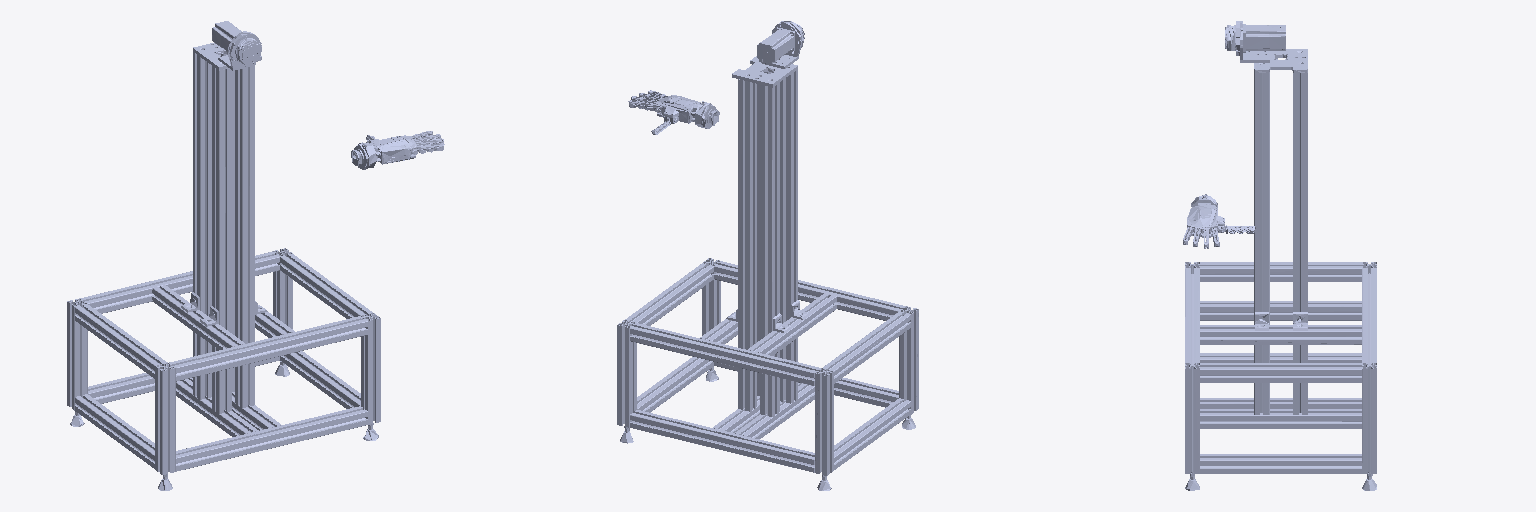
robot.urdf — air_robot:
<?xml version="1.0" encoding="utf-8" ?>
<!-- This URDF was automatically created by SolidWorks to URDF Exporter! Originally created by [author] ([email redacted])
     Commit Version: 1.6.0-4-g7f85cfe  Build Version: 1.6.7995.38578
     For more information, please see http://wiki.ros.org/sw_urdf_exporter -->
<robot name="air_robot">
    <link name="base_link">
        <inertial>
            <origin xyz="0.000160852559340272 0.416511988266863 0.00522519390962018" rpy="0 0 0" />
            <mass value="6.60658072927865" />
            <inertia ixx="0.205461268695088" ixy="-4.8631130134879E-08" ixz="3.31309244336347E-09" iyy="0.0632251395598791" iyz="-4.46121098307276E-09" izz="0.213924141252687" />
        </inertial>
        <visual>
            <origin xyz="0 0 0" rpy="0 0 0" />
            <geometry>
                <mesh filename="package://air_description/meshes/base_link.STL" />
            </geometry>
            <material name="">
                <color rgba="0.792156862745098 0.819607843137255 0.933333333333333 1" />
            </material>
        </visual>
        <collision>
            <origin xyz="0 0 0" rpy="0 0 0" />
            <geometry>
                <mesh filename="package://air_description/meshes/base_link.STL" />
            </geometry>
        </collision>
    </link>
    <link name="s1">
        <inertial>
            <origin xyz="-0.0565855661773653 -1.47432999124675E-05 0.0503451976338493" rpy="0 0 0" />
            <mass value="0.542684124579144" />
            <inertia ixx="0.000345761092952399" ixy="-3.24050500600486E-07" ixz="1.50683178516403E-07" iyy="0.000778022471193682" iyz="1.07326375799424E-08" izz="0.000776671252305068" />
        </inertial>
        <visual>
            <origin xyz="0 0 0" rpy="0 0 0" />
            <geometry>
                <mesh filename="package://air_description/meshes/s1.STL" />
            </geometry>
            <material name="">
                <color rgba="0.792156862745098 0.819607843137255 0.933333333333333 1" />
            </material>
        </visual>
        <collision>
            <origin xyz="0 0 0" rpy="0 0 0" />
            <geometry>
                <mesh filename="package://air_description/meshes/s1.STL" />
            </geometry>
        </collision>
    </link>
    <joint name="s1j" type="revolute">
        <origin xyz="0 -0.1455 1.1455" rpy="1.5708 0 0" />
        <parent link="base_link" />
        <child link="s1" />
        <axis xyz="0 0 1" />
        <limit lower="-0.78" upper="0.78" effort="2.76" velocity="3.39" />
    </joint>
    <link name="s2">
        <inertial>
            <origin xyz="0.0265368019978267 -0.0360762146328593 0.00202591662662588" rpy="0 0 0" />
            <mass value="0.0397003268136184" />
            <inertia ixx="1.77539568949169E-05" ixy="-5.49265597337707E-08" ixz="4.46961963342789E-21" iyy="9.62749691816005E-06" iyz="5.5659379414233E-21" izz="1.53865784423673E-05" />
        </inertial>
        <visual>
            <origin xyz="0 0 0" rpy="0 0 0" />
            <geometry>
                <mesh filename="package://air_description/meshes/s2.STL" />
            </geometry>
            <material name="">
                <color rgba="0.792156862745098 0.819607843137255 0.933333333333333 1" />
            </material>
        </visual>
        <collision>
            <origin xyz="0 0 0" rpy="0 0 0" />
            <geometry>
                <mesh filename="package://air_description/meshes/s2.STL" />
            </geometry>
        </collision>
    </link>
    <joint name="s2j" type="revolute">
        <origin xyz="0 0 0.05" rpy="0 0 0" />
        <parent link="s1" />
        <child link="s2" />
        <axis xyz="-1 0 0" />
        <limit lower="0" upper="1.57" effort="2.76" velocity="3.39" />
    </joint>
    <link name="s3">
        <inertial>
            <origin xyz="-0.0307852686146159 -0.106762715233885 -0.00285680761161178" rpy="0 0 0" />
            <mass value="0.69346525440976" />
            <inertia ixx="0.000632226154715784" ixy="3.3846916742775E-06" ixz="-2.03216958615076E-06" iyy="0.000203793561582271" iyz="-7.69131798756883E-08" izz="0.000626858789980171" />
        </inertial>
        <visual>
            <origin xyz="0 0 0" rpy="0 0 0" />
            <geometry>
                <mesh filename="package://air_description/meshes/s3.STL" />
            </geometry>
            <material name="">
                <color rgba="0.792156862745098 0.819607843137255 0.933333333333333 1" />
            </material>
        </visual>
        <collision>
            <origin xyz="0 0 0" rpy="0 0 0" />
            <geometry>
                <mesh filename="package://air_description/meshes/s3.STL" />
            </geometry>
        </collision>
    </link>
    <joint name="s3j" type="revolute">
        <origin xyz="-0.00345 -0.06 0.0036" rpy="0 0 0" />
        <parent link="s2" />
        <child link="s3" />
        <axis xyz="0 -1 0" />
        <limit lower="-1.57" upper="1.57" effort="2.76" velocity="3.39" />
    </joint>
    <link name="e">
        <inertial>
            <origin xyz="0.133914313079551 0.0397090138567681 -0.00135370354868536" rpy="0 0 0" />
            <mass value="0.524484949455585" />
            <inertia ixx="0.000164098535625993" ixy="-0.00011555456704967" ixz="-1.49937999308697E-06" iyy="0.000491486729879123" iyz="5.4210279008361E-06" izz="0.000537801635705856" />
        </inertial>
        <visual>
            <origin xyz="0 0 0" rpy="0 0 0" />
            <geometry>
                <mesh filename="package://air_description/meshes/e.STL" />
            </geometry>
            <material name="">
                <color rgba="0.792156862745098 0.819607843137255 0.933333333333333 1" />
            </material>
        </visual>
        <collision>
            <origin xyz="0 0 0" rpy="0 0 0" />
            <geometry>
                <mesh filename="package://air_description/meshes/e.STL" />
            </geometry>
        </collision>
    </link>
    <joint name="ej" type="revolute">
        <origin xyz="-0.005 -0.2835 0" rpy="0 0 -0.28935" />
        <parent link="s3" />
        <child link="e" />
        <axis xyz="0 0 1" />
        <limit lower="-1.4" upper="0.184" effort="2.76" velocity="3.39" />
    </joint>
    <link name="roll">
        <inertial>
            <origin xyz="2.11649564541005E-08 2.17253527112771E-08 -5.72361158468482E-10" rpy="0 0 0" />
            <mass value="0.0123350072540482" />
            <inertia ixx="5.73140316108075E-06" ixy="2.39610064059149E-12" ixz="2.37221429275288E-12" iyy="3.0133459248538E-06" iyz="-2.51281711383088E-12" izz="3.01335111374677E-06" />
        </inertial>
        <visual>
            <origin xyz="0 0 0" rpy="0 0 0" />
            <geometry>
                <mesh filename="package://air_description/meshes/roll.STL" />
            </geometry>
            <material name="">
                <color rgba="0.792156862745098 0.819607843137255 0.933333333333333 1" />
            </material>
        </visual>
        <collision>
            <origin xyz="0 0 0" rpy="0 0 0" />
            <geometry>
                <mesh filename="package://air_description/meshes/roll.STL" />
            </geometry>
        </collision>
    </link>
    <joint name="rollj" type="revolute">
        <origin xyz="0.25159 0.0749 0" rpy="-1.5708 0 -2.8522" />
        <parent link="e" />
        <child link="roll" />
        <axis xyz="0 0.70711 0.70711" />
        <limit lower="-0.26" upper="0.26" effort="2.76" velocity="3.39" />
    </joint>
    <link name="pitch">
        <inertial>
            <origin xyz="0.0286089165171641 -0.000144661566694015 0.009855465038871" rpy="0 0 0" />
            <mass value="0.0576090249075869" />
            <inertia ixx="7.09168260696957E-05" ixy="-9.04854271559607E-09" ixz="-9.02484498992207E-09" iyy="3.68466285330398E-05" iyz="-3.7654782496613E-07" izz="3.68466243102646E-05" />
        </inertial>
        <visual>
            <origin xyz="0 0 0" rpy="0 0 0" />
            <geometry>
                <mesh filename="package://air_description/meshes/pitch.STL" />
            </geometry>
            <material name="">
                <color rgba="0.792156862745098 0.819607843137255 0.933333333333333 1" />
            </material>
        </visual>
        <collision>
            <origin xyz="0 0 0" rpy="0 0 0" />
            <geometry>
                <mesh filename="package://air_description/meshes/pitch.STL" />
            </geometry>
        </collision>
    </link>
    <joint name="pitchj" type="revolute">
        <origin xyz="0 0.01 0" rpy="-1.5708 0 3.1416" />
        <parent link="roll" />
        <child link="pitch" />
        <axis xyz="0 0.70711 -0.70711" />
        <limit lower="-0.26" upper="0.26" effort="2.76" velocity="3.39" />
    </joint>
    <link name="yaw">
        <inertial>
            <origin xyz="0.121145515511824 -0.00274393412138674 -0.00280619674961233" rpy="0 0 0" />
            <mass value="0.288045639627102" />
            <inertia ixx="0.000166764800385917" ixy="1.15318815602555E-05" ixz="-2.72502292894343E-07" iyy="0.000292613552431781" iyz="3.6036191451638E-08" izz="0.000214965635544534" />
        </inertial>
        <visual>
            <origin xyz="0 0 0" rpy="0 0 0" />
            <geometry>
                <mesh filename="package://air_description/meshes/yaw.STL" />
            </geometry>
            <material name="">
                <color rgba="0.792156862745098 0.819607843137255 0.933333333333333 1" />
            </material>
        </visual>
        <collision>
            <origin xyz="0 0 0" rpy="0 0 0" />
            <geometry>
                <mesh filename="package://air_description/meshes/yaw.STL" />
            </geometry>
        </collision>
    </link>
    <joint name="yawj" type="revolute">
        <origin xyz="0.01 0 0.01" rpy="0 0 0" />
        <parent link="pitch" />
        <child link="yaw" />
        <axis xyz="-1 0 0" />
        <limit lower="-3.0" upper="3.0" effort="2.76" velocity="3.39" />
    </joint>

    <link name="world" />
    <joint name="world-base_link-fixed" type="fixed">
        <parent link="world" />
        <child link="base_link" />
        <origin xyz="0.0 0.0 0.0" rpy="0.0 0.0 0.0" />
        <dynamics damping="1.0" />
    </joint>

    <!--gazebo reference="base_link">
        <turnGravityOff>false</turnGravityOff>
        <plugin name="gazebo_ros_control">
            <robotNamespace>/</robotNamespace>
        </plugin>
    </gazebo>
    <gazebo reference="s1">
        <turnGravityOff>true</turnGravityOff>
    </gazebo>
    <gazebo reference="s2">
        <turnGravityOff>true</turnGravityOff>
    </gazebo>
    <gazebo reference="s3">
        <turnGravityOff>true</turnGravityOff>
    </gazebo>
    <gazebo reference="e">
        <turnGravityOff>true</turnGravityOff>
    </gazebo>
    <gazebo reference="roll">
        <turnGravityOff>true</turnGravityOff>
    </gazebo>
    <gazebo reference="pitch">
        <turnGravityOff>true</turnGravityOff>
    </gazebo>
    <gazebo reference="yaw">
        <turnGravityOff>true</turnGravityOff>
    </gazebo-->

    <transmission name="trans_s1j">
        <type>transmission_interface/SimpleTransmission</type>
        <joint name="s1j">
            <hardwareInterface>hardware_interface/PositionJointInterface</hardwareInterface>
        </joint>
        <actuator name="s1j_motor">
            <hardwareInterface>hardware_interface/PositionJointInterface</hardwareInterface>
            <mechanicalReduction>1</mechanicalReduction>
        </actuator>
    </transmission>
    <transmission name="trans_s2j">
        <type>transmission_interface/SimpleTransmission</type>
        <joint name="s2j">
            <hardwareInterface>hardware_interface/PositionJointInterface</hardwareInterface>
        </joint>
        <actuator name="s2j_motor">
            <hardwareInterface>hardware_interface/PositionJointInterface</hardwareInterface>
            <mechanicalReduction>1</mechanicalReduction>
        </actuator>
    </transmission>
    <transmission name="trans_s3j">
        <type>transmission_interface/SimpleTransmission</type>
        <joint name="s3j">
            <hardwareInterface>hardware_interface/PositionJointInterface</hardwareInterface>
        </joint>
        <actuator name="s3j_motor">
            <hardwareInterface>hardware_interface/PositionJointInterface</hardwareInterface>
            <mechanicalReduction>1</mechanicalReduction>
        </actuator>
    </transmission>
    <transmission name="trans_ej">
        <type>transmission_interface/SimpleTransmission</type>
        <joint name="ej">
            <hardwareInterface>hardware_interface/PositionJointInterface</hardwareInterface>
        </joint>
        <actuator name="ej_motor">
            <hardwareInterface>hardware_interface/PositionJointInterface</hardwareInterface>
            <mechanicalReduction>1</mechanicalReduction>
        </actuator>
    </transmission>
    <transmission name="trans_rollj">
        <type>transmission_interface/SimpleTransmission</type>
        <joint name="rollj">
            <hardwareInterface>hardware_interface/PositionJointInterface</hardwareInterface>
        </joint>
        <actuator name="rollj_motor">
            <hardwareInterface>hardware_interface/PositionJointInterface</hardwareInterface>
            <mechanicalReduction>1</mechanicalReduction>
        </actuator>
    </transmission>
    <transmission name="trans_pitchj">
        <type>transmission_interface/SimpleTransmission</type>
        <joint name="pitchj">
            <hardwareInterface>hardware_interface/PositionJointInterface</hardwareInterface>
        </joint>
        <actuator name="pitchj_motor">
            <hardwareInterface>hardware_interface/PositionJointInterface</hardwareInterface>
            <mechanicalReduction>1</mechanicalReduction>
        </actuator>
    </transmission>
    <transmission name="trans_yawj">
        <type>transmission_interface/SimpleTransmission</type>
        <joint name="yawj">
            <hardwareInterface>hardware_interface/PositionJointInterface</hardwareInterface>
        </joint>
        <actuator name="yawj_motor">
            <hardwareInterface>hardware_interface/PositionJointInterface</hardwareInterface>
            <mechanicalReduction>1</mechanicalReduction>
        </actuator>
    </transmission>
    <gazebo>
        <plugin name="gazebo_ros_control" filename="libgazebo_ros_control.so">
            <robotNamespace>/</robotNamespace>
        </plugin>
    </gazebo>
</robot>

--- Render facts (derived) ---
Views: 3 orthographic renders of the robot side by side, from view 1: azimuth 30°, elevation 25°; view 2: azimuth 150°, elevation 25°; view 3: azimuth 270°, elevation 25°.
Model air_robot with 9 links and 8 joints (7 revolute, 1 fixed), rooted at world, posed all joints at 0.
Links seen in each view (by area): view 1: base_link, yaw; view 2: base_link, yaw; view 3: base_link, yaw.
Link boxes in pixels (x1,y1,x2,y2): base_link: (67, 21, 380, 490); yaw: (351, 131, 444, 169); base_link: (617, 21, 918, 490); yaw: (628, 90, 719, 134); base_link: (1185, 21, 1376, 490); yaw: (1183, 194, 1255, 248).
Size in the robot's own frame: 0.8728 by 0.5062 by 1.19 metres.
Meshes: 8 distinct files referenced, 2 mesh visuals loaded (2 binary STL); not drawn: 6 (reference not matched to a file when rendering).